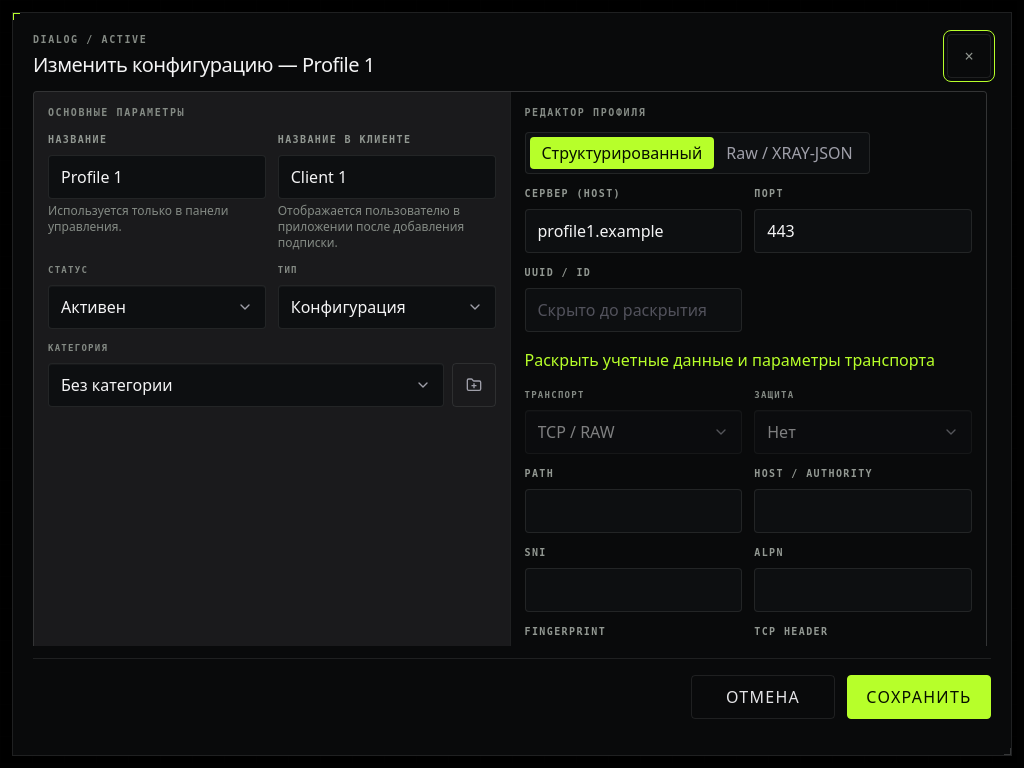
Test: editor request failure and dialog contracts › retains the draft when update fails: server rejected input
Replace the text in the field labelled "Название" with "Changed label" at [157, 177], box [48,155,266,199]
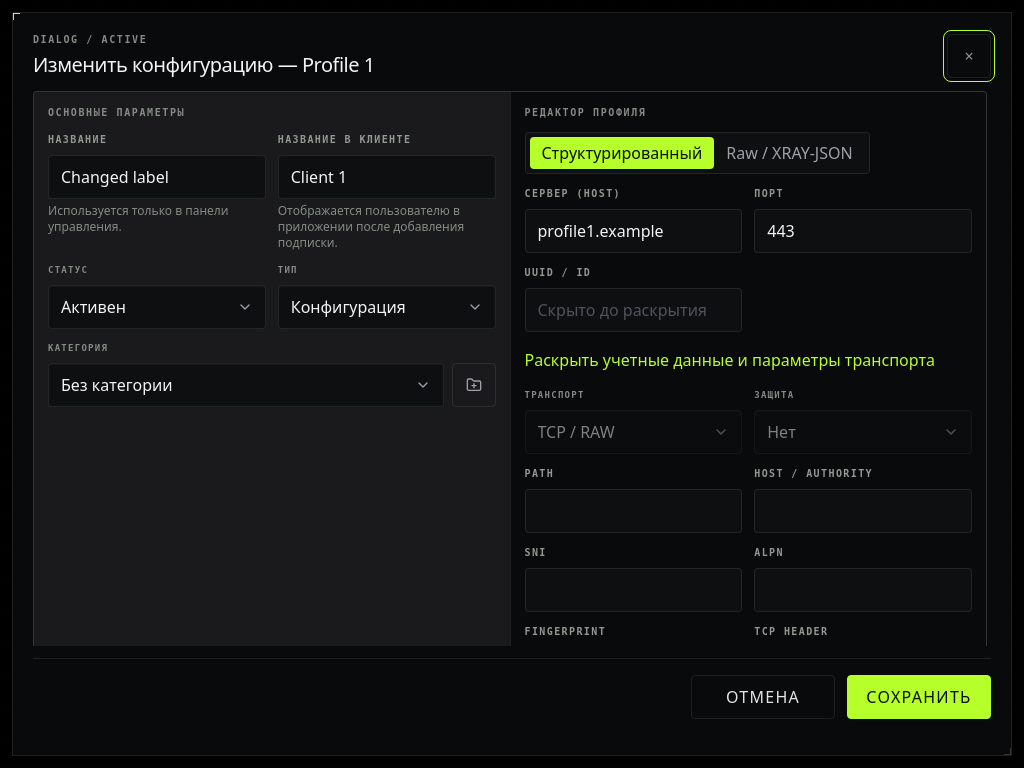
Click the button "Сохранить" at [919, 697], box [847,675,991,719]
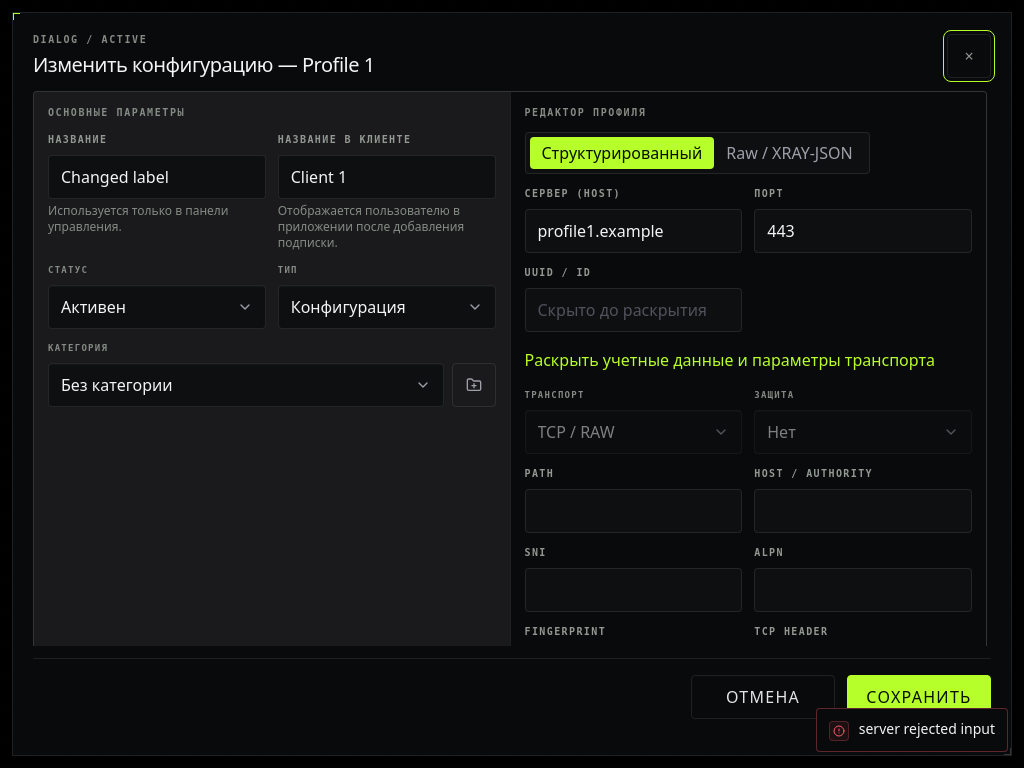
Expected: the text "server rejected input" is shown, [859,719,995,739]
